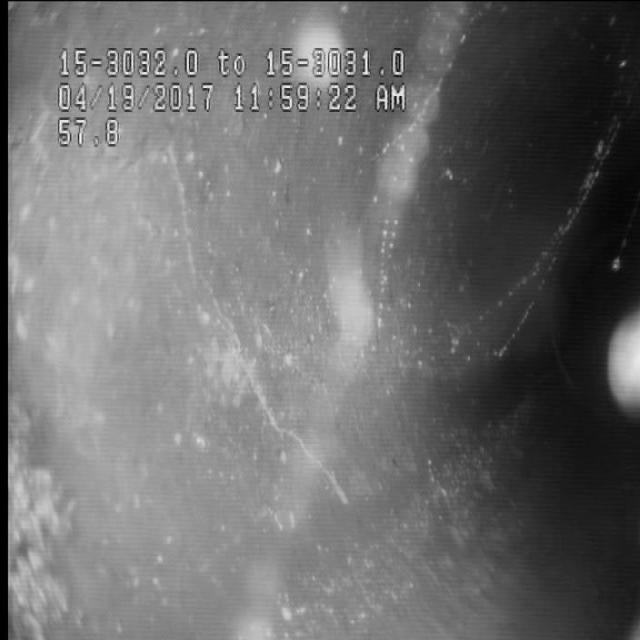Crack: (180, 178, 350, 498)
